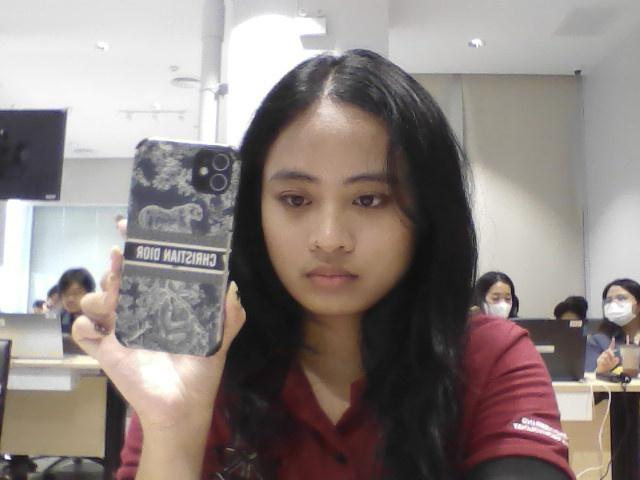iphone: (126, 129, 239, 354)
